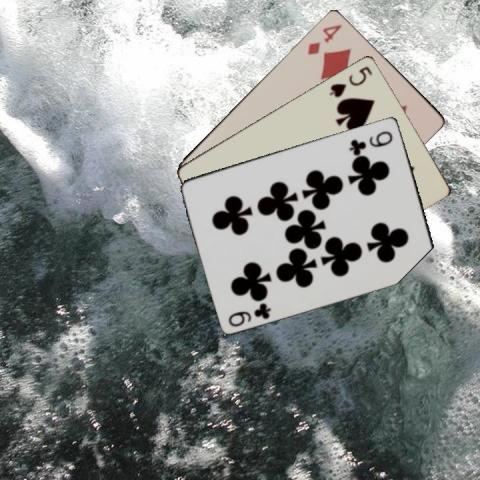4d: (304, 21, 343, 56)
5s: (326, 62, 374, 98)
9c: (225, 299, 273, 328), (346, 128, 395, 154)
